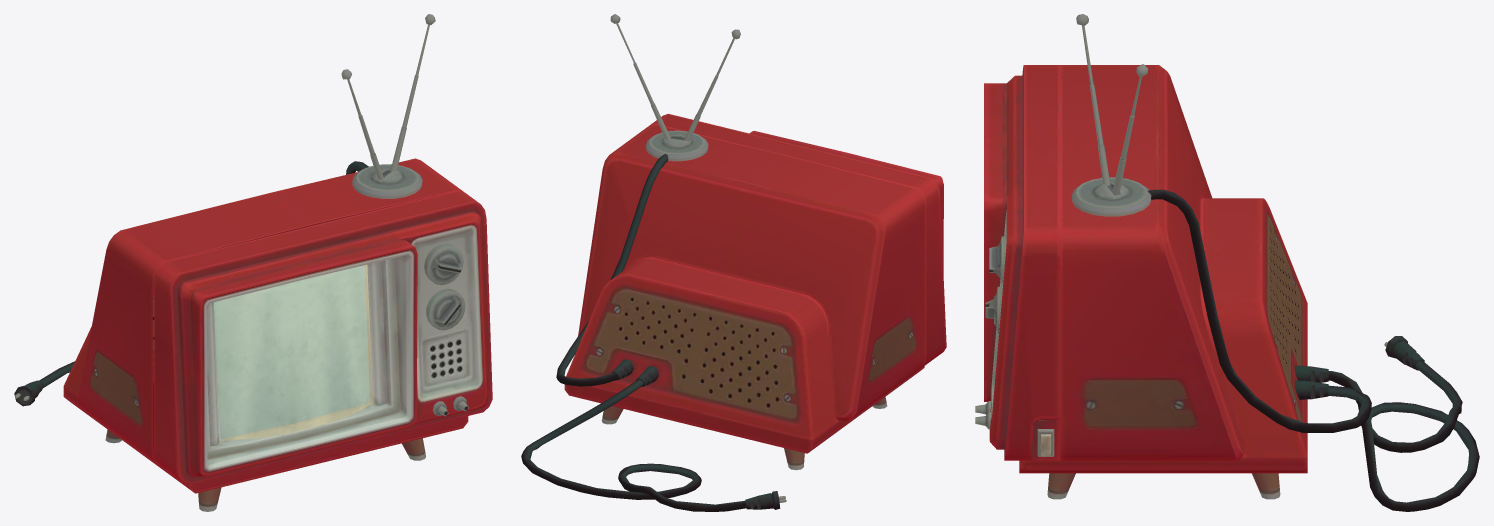
The picture shows the model from 3 angles, left to right: view 1: azimuth 30°, elevation 25°; view 2: azimuth 150°, elevation 25°; view 3: azimuth 270°, elevation 25°; orthographic projection. The views are drawn at different scales.
Parts seen in each view (by area): view 1: legs_low001_main_0, screen_low001_glass_0; view 2: legs_low001_main_0; view 3: legs_low001_main_0.
Boxes of the visible parts, bbox=[...] form: legs_low001_main_0: bbox=[14, 14, 492, 511]; screen_low001_glass_0: bbox=[214, 264, 372, 440]; legs_low001_main_0: bbox=[521, 14, 946, 511]; legs_low001_main_0: bbox=[975, 14, 1479, 511].
Bounding box in the file's own units: 81.52 × 98.68 × 98.48.
Materials: 2 (2 with a texture image).
